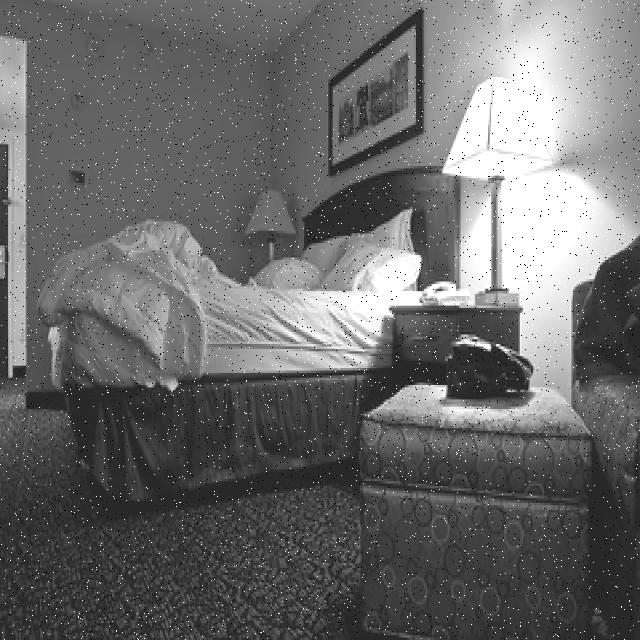bed: (64, 173, 440, 403)
